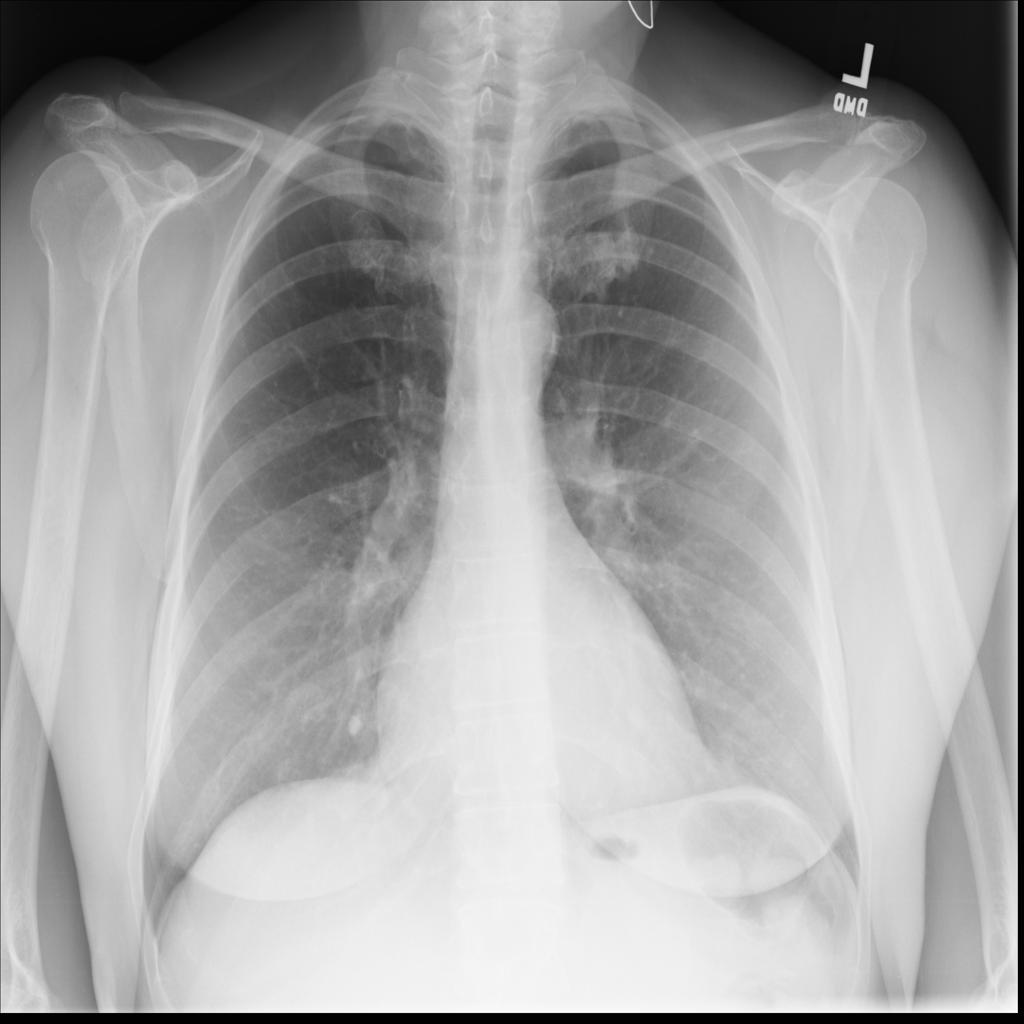nodule: (336, 693, 380, 753)
